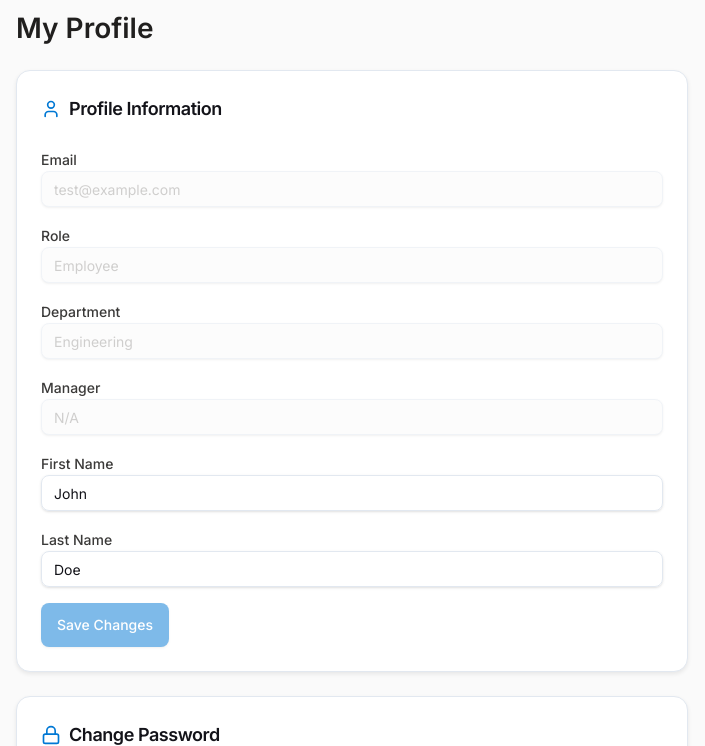
Test case: ProfilePage › profile edit & save › shows validation error for empty first name
Clear the field labelled "First Name" at [352, 493], box [41,475,663,511]
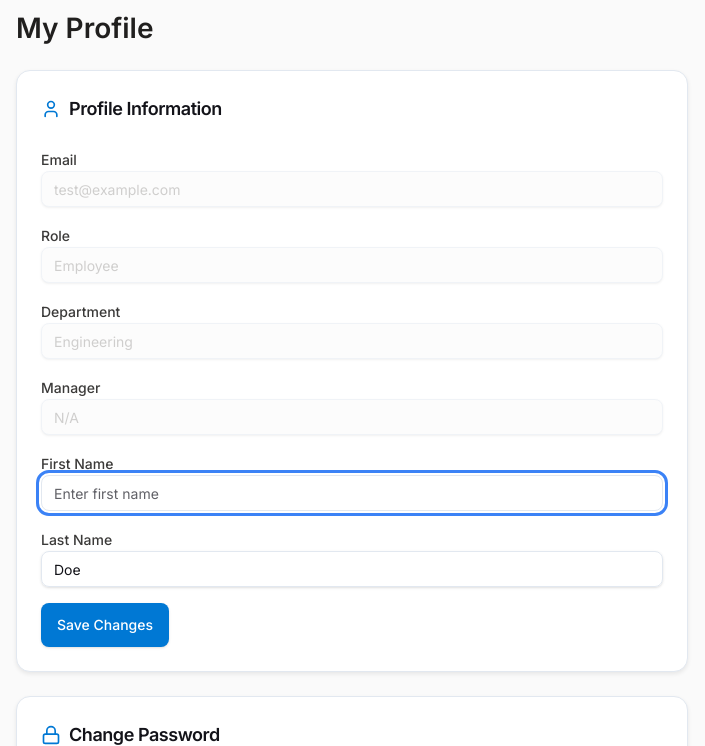
# Need to make hasProfileChanges truthy — modify lastName too
Clear the field labelled "Last Name" at [352, 569], box [41,551,663,587]
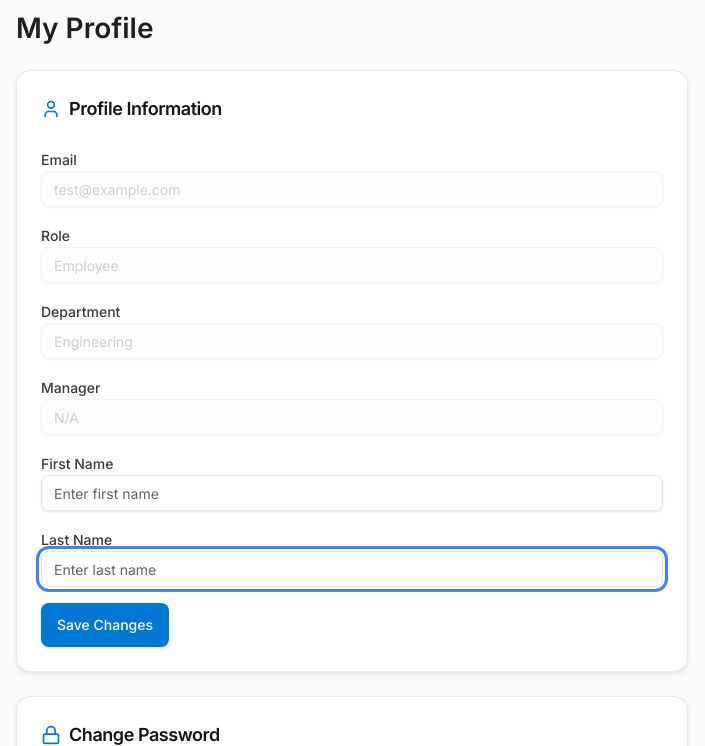
# Profile changes exist but validation will fail
Click the button "Save Changes" at [105, 625], box [41,603,169,647]
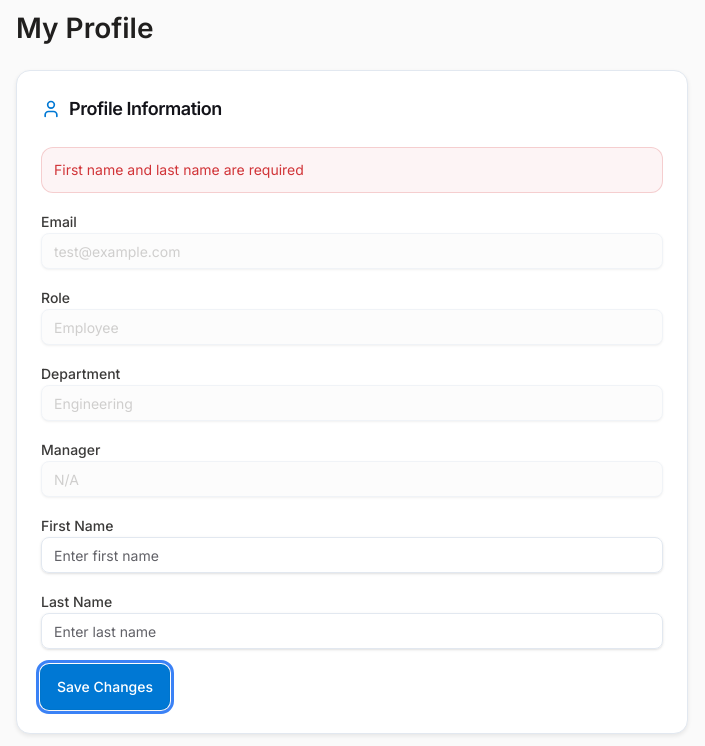
Expected: the text "First name and last name are required" is shown, [41,147,663,193]
